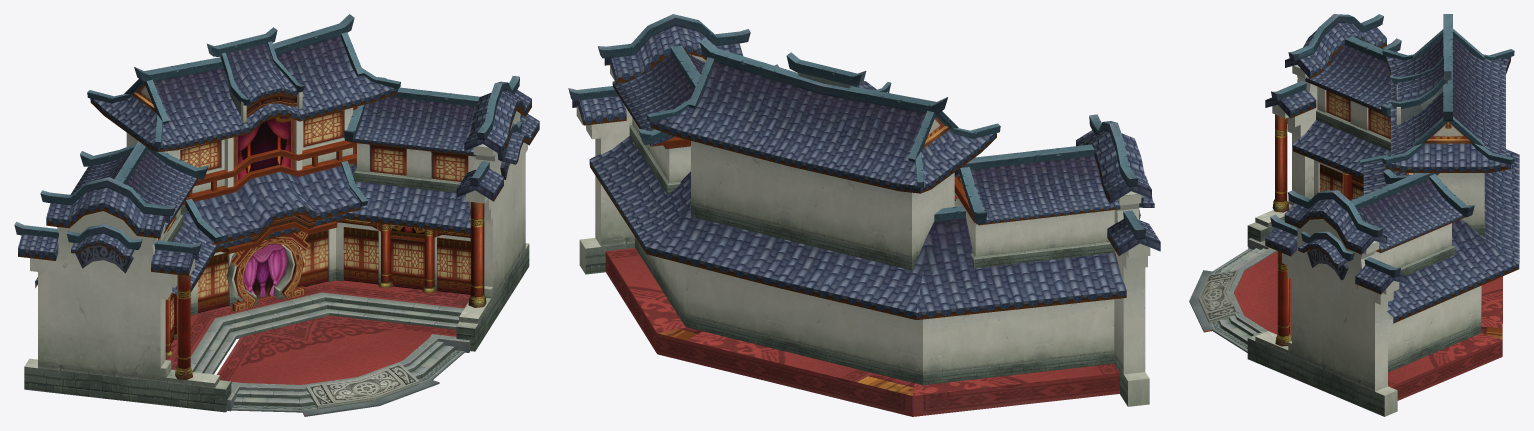
File: szc_building_jiyuan21a.FBX
3 renders of one model, left to right at view 1: azimuth 30°, elevation 25°; view 2: azimuth 150°, elevation 25°; view 3: azimuth 270°, elevation 25°, orthographic. The views are drawn at different scales.
Visible parts, largest first — view 1: szc_building_jiyuan21a; view 2: szc_building_jiyuan21a; view 3: szc_building_jiyuan21a.
Boxes of the visible parts, left/top/right/bottom form: szc_building_jiyuan21a: left=14, top=14, right=539, bottom=416; szc_building_jiyuan21a: left=568, top=14, right=1160, bottom=416; szc_building_jiyuan21a: left=1189, top=14, right=1519, bottom=416.
Size of the model in its own units: 1411 by 689 by 836.
